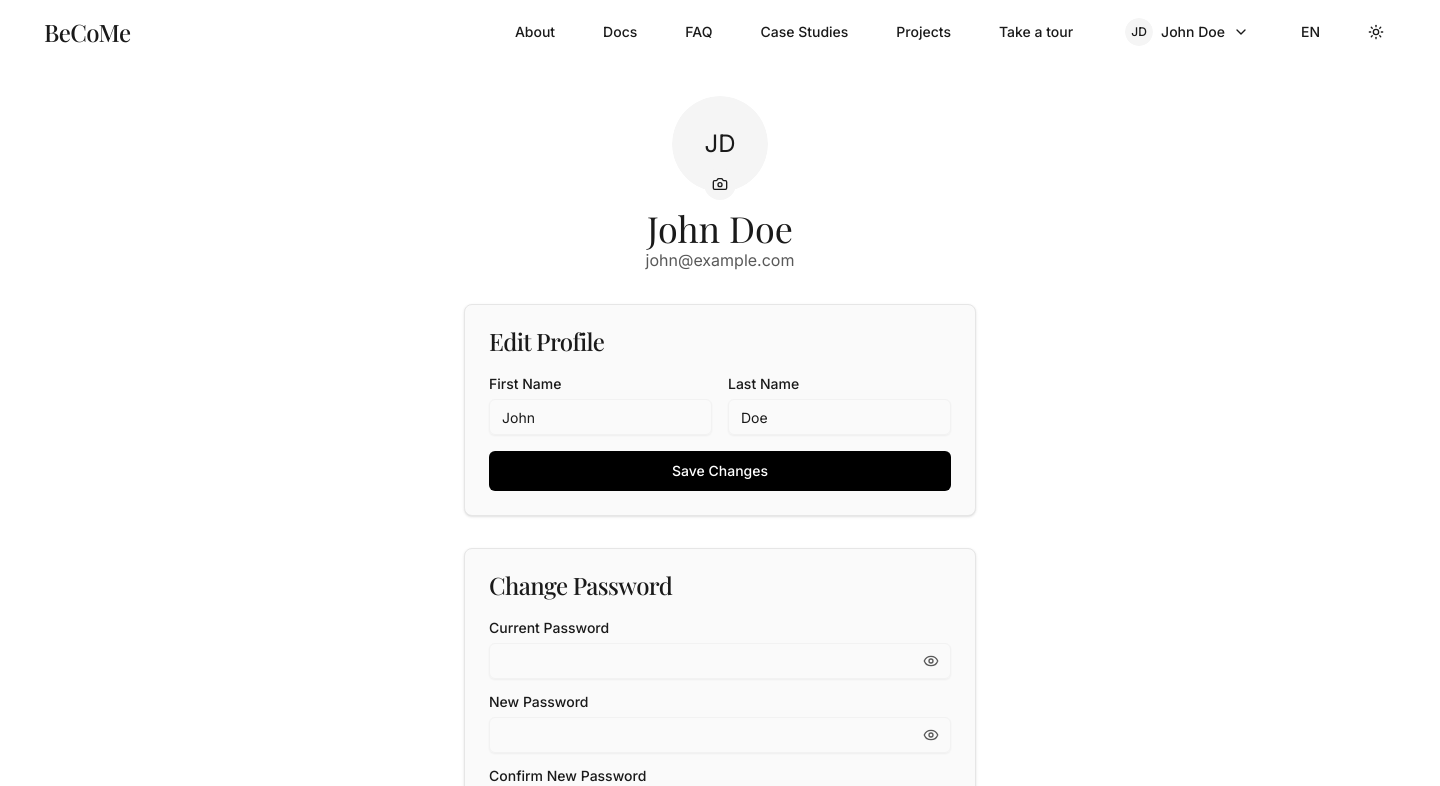
Profile - Edit Profile › shows error for invalid name format
This screenshot has width=1440, height=786.
Replace the text in the field labelled "First Name" with "John123" at coordinates (600, 417), box [489,399,712,435]
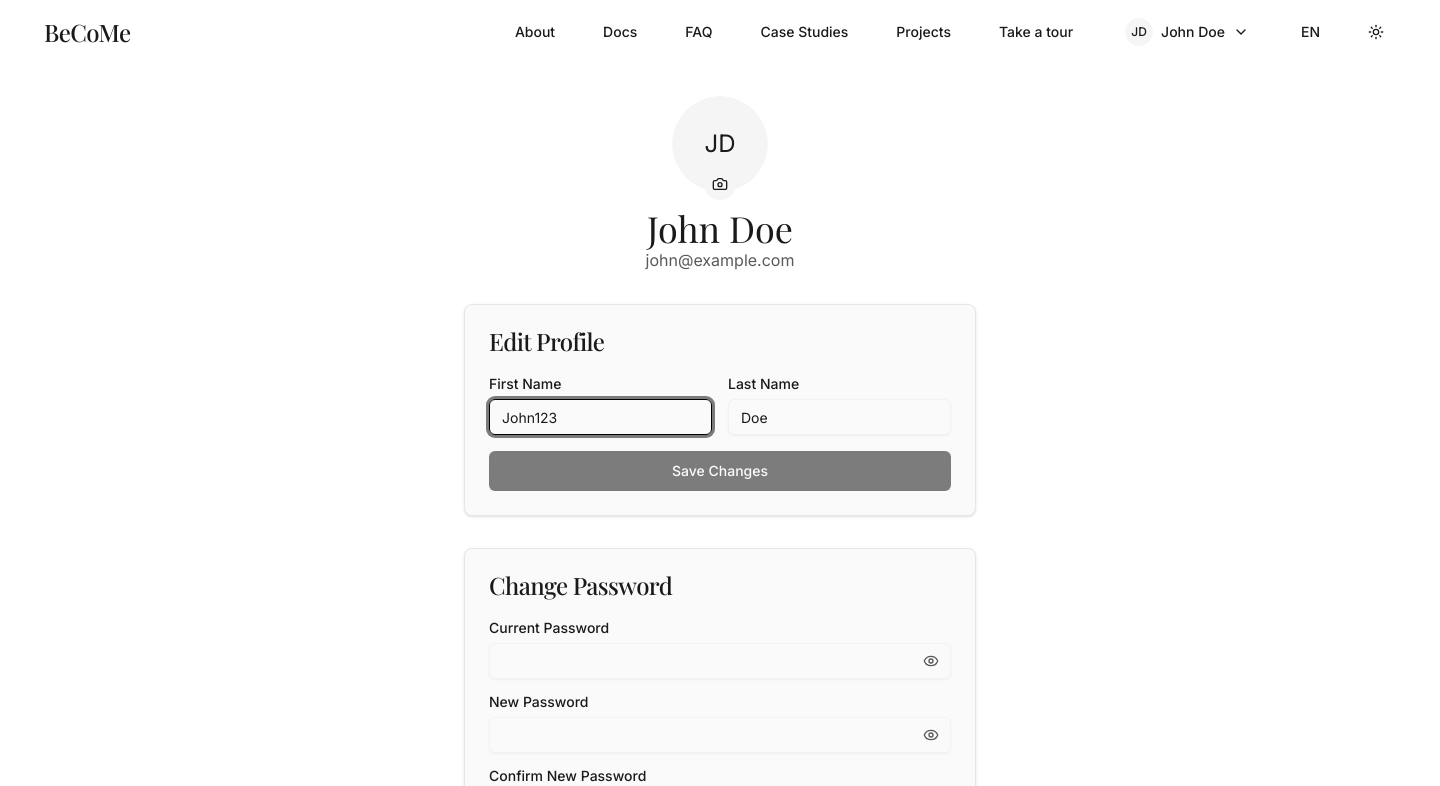
Press Tab
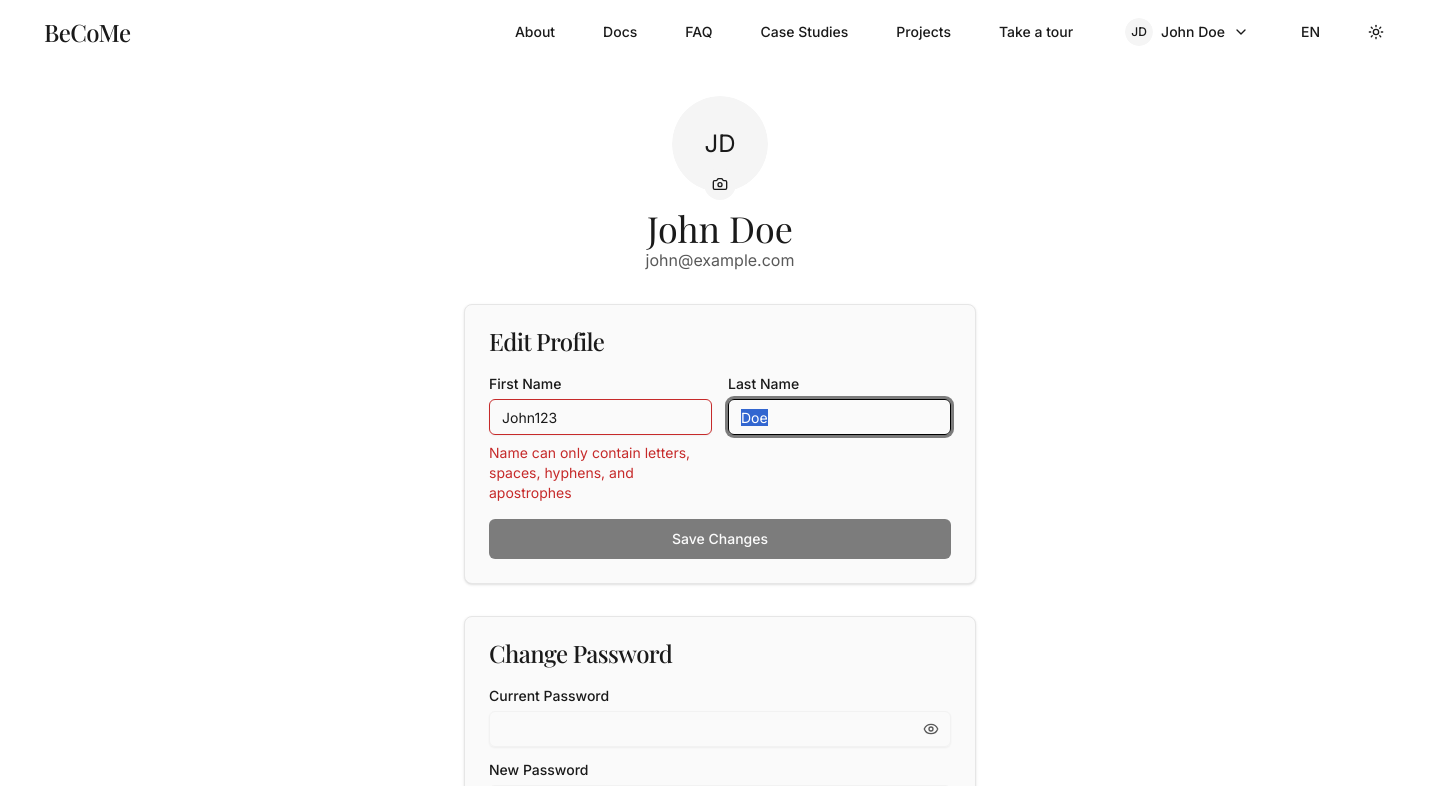
Now the text "Name can only contain letters, spaces, hyphens, and apostrophes" is shown, box [489,443,712,503]
